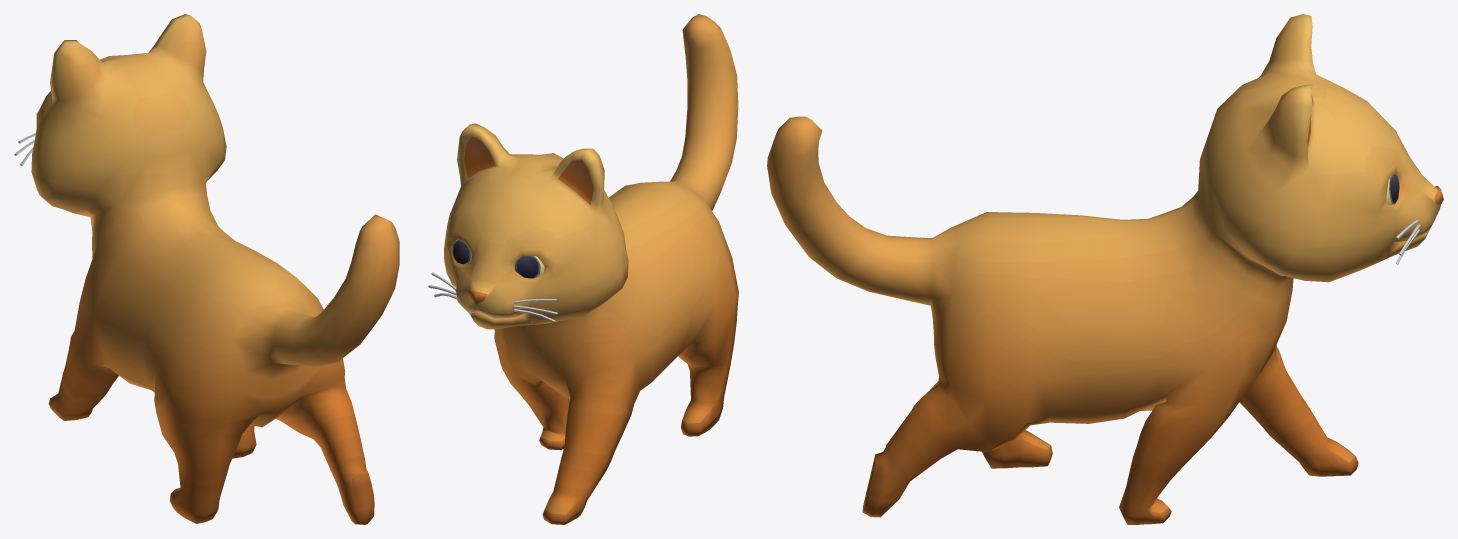
File: cat.fbx
3 renders of one model, left to right at view 1: azimuth 30°, elevation 25°; view 2: azimuth 150°, elevation 25°; view 3: azimuth 270°, elevation 25°, orthographic. The views are drawn at different scales.
Visible parts, largest first — view 1: Cat; view 2: Cat; view 3: Cat.
Part boxes in pixels (x1,y1,x2,y2): Cat: [14, 14, 399, 524]; Cat: [428, 14, 738, 524]; Cat: [767, 14, 1443, 524].
Size of the model in its own units: 1018 by 2067 by 2835.
1 material, 1 textured.
